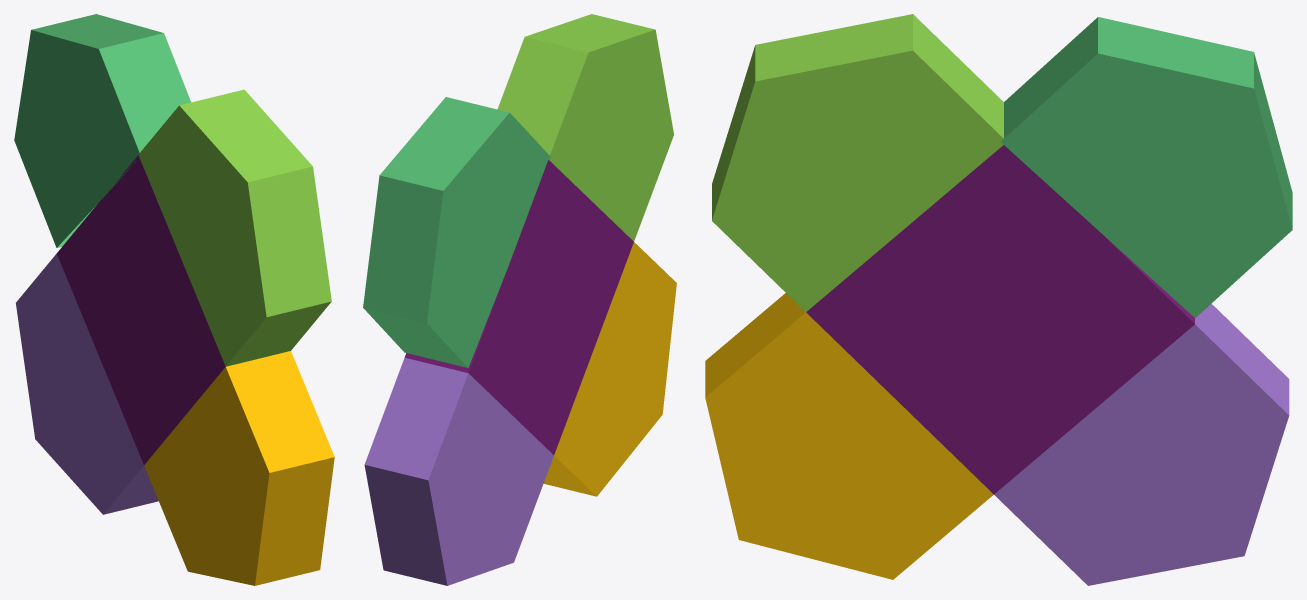
Rendered from wayfair.glb.
3 renders of one model, left to right at view 1: azimuth 30°, elevation 25°; view 2: azimuth 150°, elevation 25°; view 3: azimuth 270°, elevation 25°, orthographic. The views are drawn at different scales.
Parts seen in each view (by area): view 1: wayfair_tl, wayfair_bl, wayfair_center, wayfair_tr, wayfair_br; view 2: wayfair_tr, wayfair_br, wayfair_center, wayfair_tl, wayfair_bl; view 3: wayfair_center, wayfair_tl, wayfair_tr, wayfair_bl, wayfair_br.
Part boxes in pixels (x1,y1,x2,y2): wayfair_tl: (138,89,331,366); wayfair_bl: (144,351,334,585); wayfair_center: (56,155,225,464); wayfair_tr: (14,14,190,247); wayfair_br: (16,254,158,514); wayfair_tr: (363,97,550,367); wayfair_br: (364,358,553,585); wayfair_center: (404,160,633,454); wayfair_tl: (497,14,673,241); wayfair_bl: (543,242,676,496); wayfair_center: (806,145,1194,494); wayfair_tl: (712,14,1003,311); wayfair_tr: (1001,17,1292,317); wayfair_bl: (705,293,993,579); wayfair_br: (994,304,1289,585).
Bounding box in the file's own units: 0.2885 × 1.97 × 1.95.
